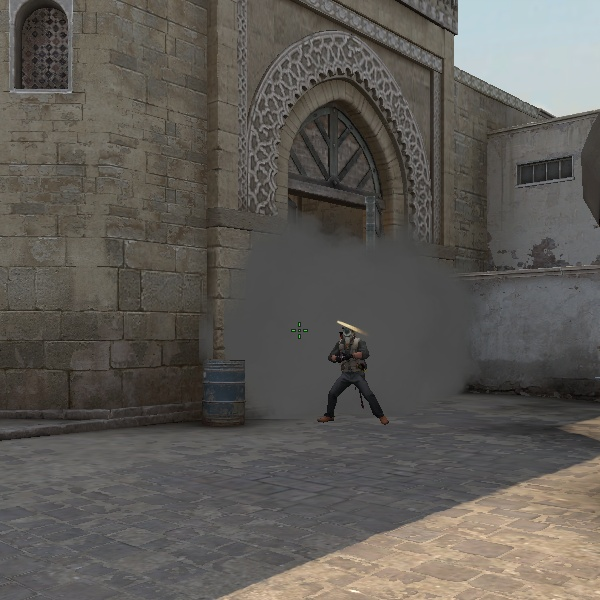ct_body: (317, 319, 384, 426)
t_body: (316, 319, 384, 425)
